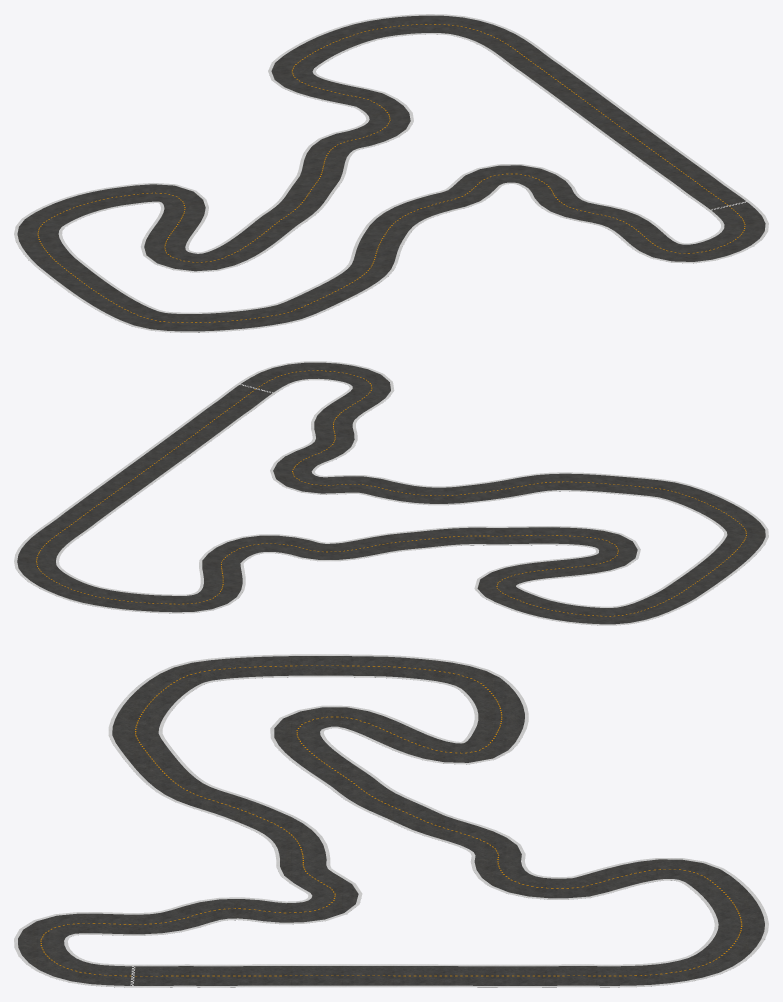
File: 2022_august_pro.dae
3 views of the same model, one above another, from view 1: azimuth 30°, elevation 25°; view 2: azimuth 150°, elevation 25°; view 3: azimuth 270°, elevation 25° (orthographic). The views are drawn at different scales.
Parts seen in each view (by area): view 1: road, il, ol, cl; view 2: road, il, ol, cl; view 3: road, il, ol, cl.
Part boxes in pixels (box(x1,y1,x2,y2)): road: box(17, 15, 765, 332); il: box(14, 14, 768, 332); ol: box(58, 33, 724, 313); cl: box(37, 24, 745, 322); road: box(17, 362, 765, 625); il: box(14, 361, 768, 625); ol: box(56, 378, 727, 607); cl: box(36, 370, 746, 616); road: box(18, 656, 764, 987); il: box(14, 654, 768, 987); ol: box(64, 675, 718, 966); cl: box(40, 665, 742, 976).
Size of what is drawn, in the model's own units: 15.52 by 14.85 by 0.0015.
Materials: 5 (5 with a texture image).
